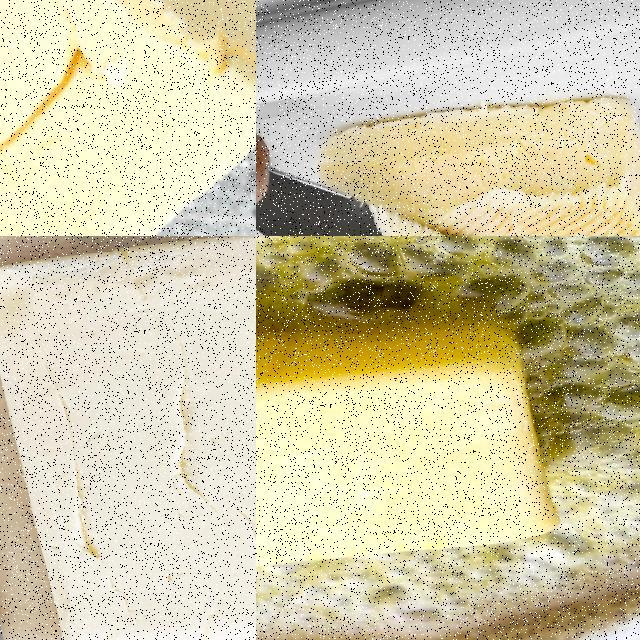Butter: (0, 236, 255, 639), (256, 315, 566, 580), (0, 0, 255, 235), (316, 98, 639, 235)
